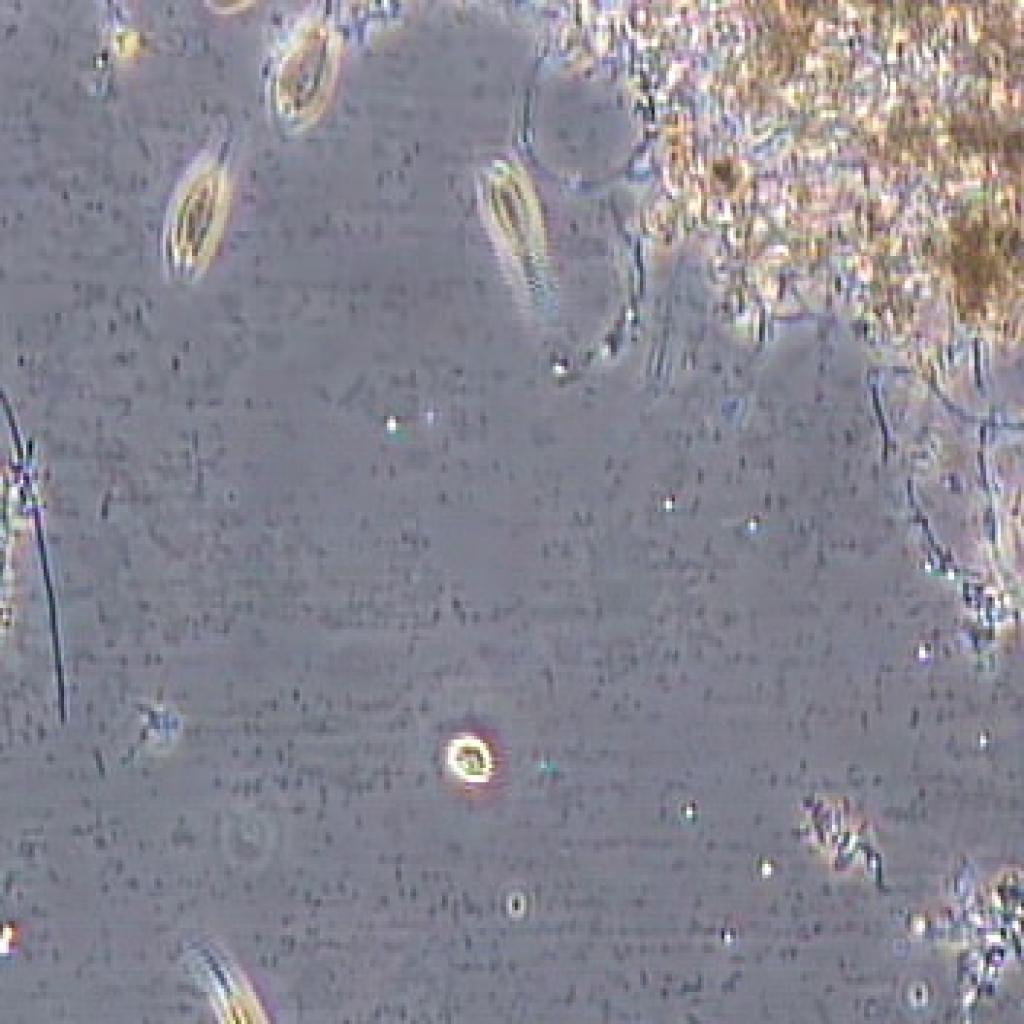Pristina: (444, 144, 580, 347), (167, 117, 237, 299), (180, 931, 293, 1024), (265, 9, 340, 130)
